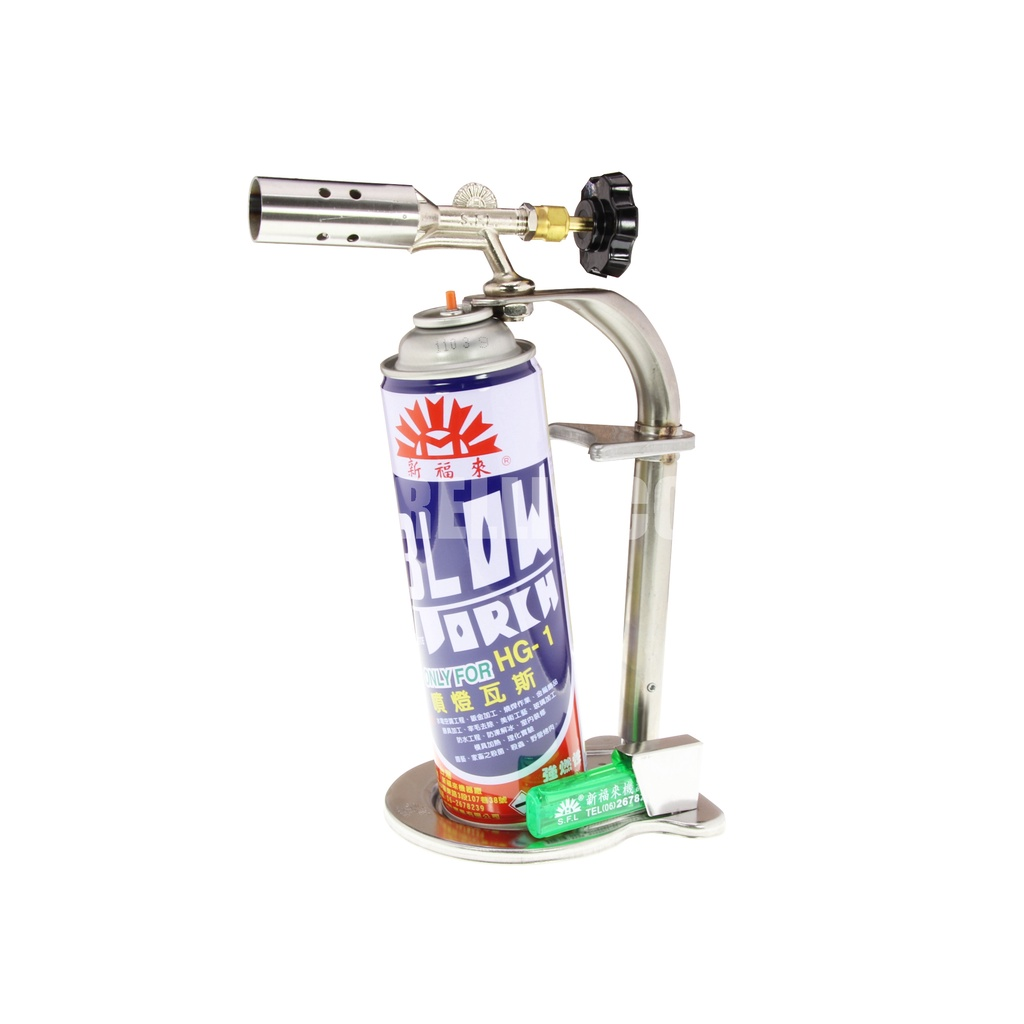gastorch: (235, 161, 731, 861)
